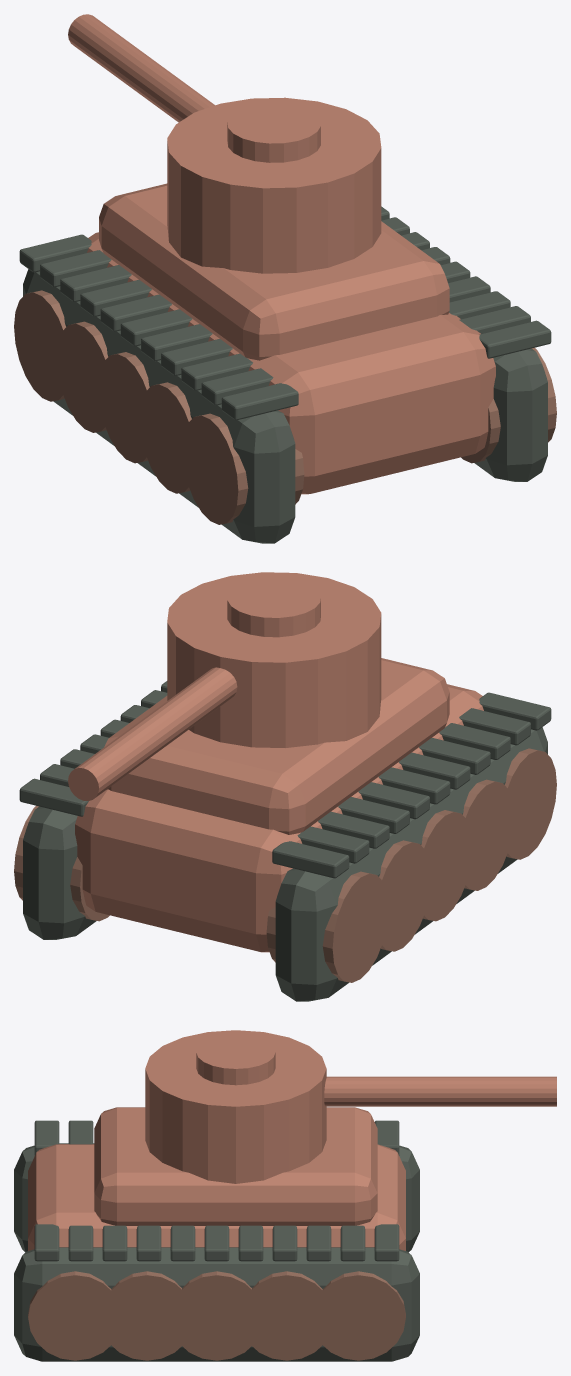
Rendered from tank.glb.
3 renders of one model, top to bottom at view 1: azimuth 30°, elevation 25°; view 2: azimuth 150°, elevation 25°; view 3: azimuth 270°, elevation 25°, orthographic. The views are drawn at different scales.
Parts seen in each view (by area): view 1: tank body, rubber treads, tank body.001, wheel hubs; view 2: tank body, tank body.001, rubber treads, wheel hubs; view 3: tank body, tank body.001, wheel hubs, rubber treads.
Boxes of the visible parts, box(x1,y1,x2,y2) form: tank body: box(87, 183, 495, 494); rubber treads: box(19, 206, 551, 543); tank body.001: box(68, 14, 381, 273); wheel hubs: box(14, 290, 556, 524); tank body: box(75, 658, 483, 952); tank body.001: box(68, 572, 381, 800); rubber treads: box(19, 681, 551, 1001); wheel hubs: box(14, 748, 556, 982); tank body: box(28, 1107, 405, 1250); tank body.001: box(145, 1030, 556, 1183); wheel hubs: box(28, 1271, 405, 1360); rubber treads: box(14, 1120, 419, 1361).
Size of the model in its own units: 0.164 by 0.15 by 0.2875.
